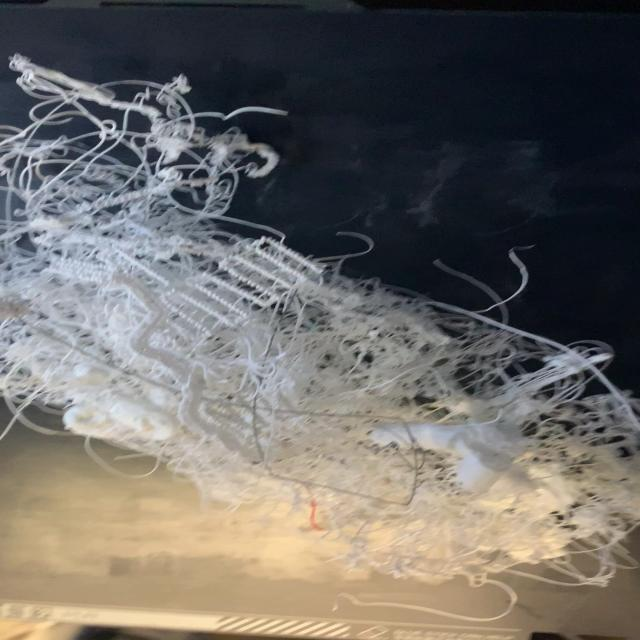spaghetti: (3, 51, 636, 617)
